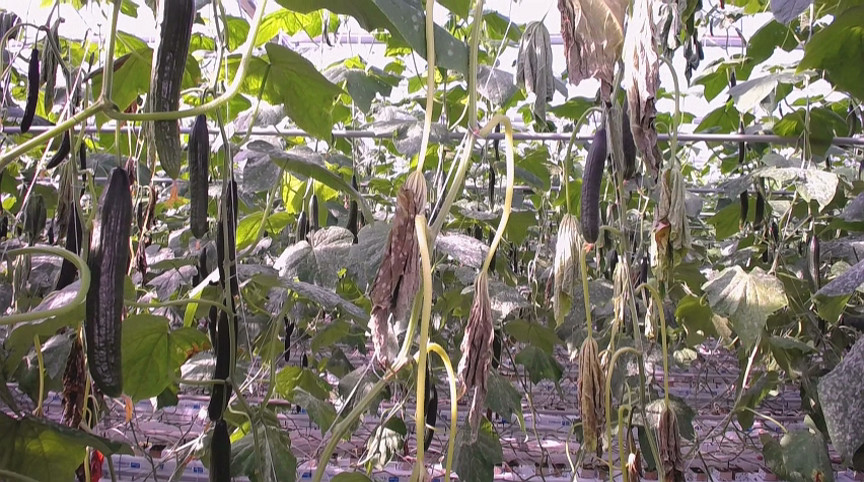cucumber: (86, 168, 133, 398), (151, 1, 193, 178), (210, 297, 238, 418), (581, 132, 608, 244), (191, 113, 209, 238), (20, 49, 40, 134), (209, 421, 229, 482), (809, 238, 822, 294)
